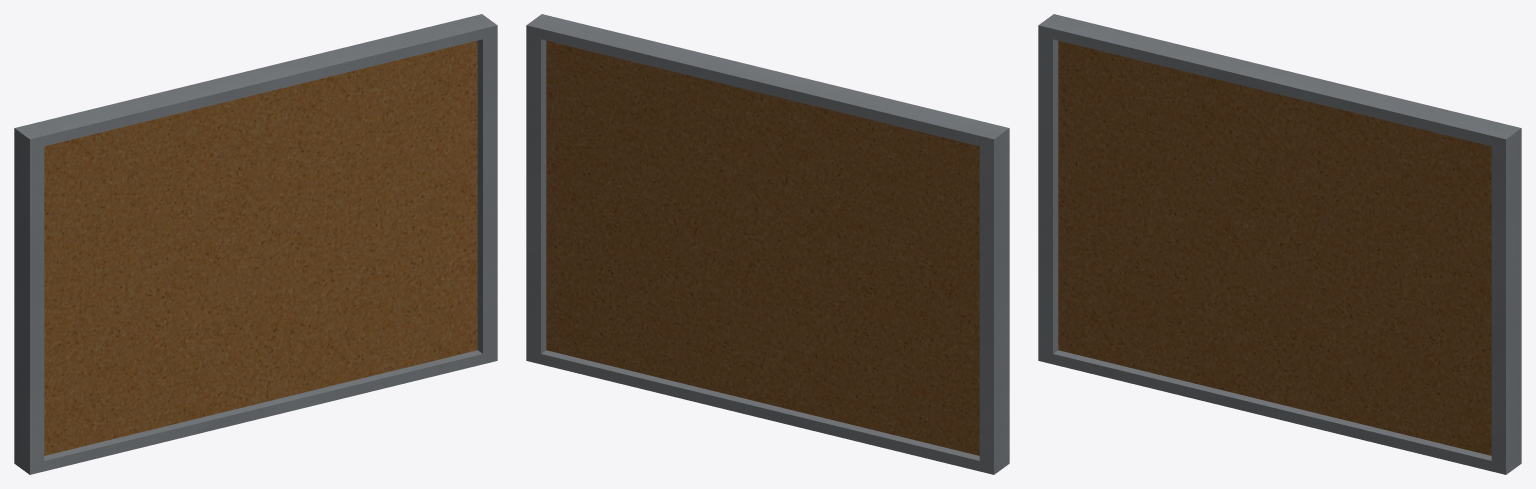
Rendered from BoardBulletin.fbx.
3 views of the same model, side by side, from view 1: azimuth 30°, elevation 25°; view 2: azimuth 150°, elevation 25°; view 3: azimuth 330°, elevation 25° (orthographic).
Visible parts, largest first — view 1: BoardBulletin; view 2: BoardBulletin; view 3: BoardBulletin.
Part boxes in pixels (x1,y1,x2,y2): BoardBulletin: [14, 14, 497, 474]; BoardBulletin: [526, 14, 1009, 474]; BoardBulletin: [1038, 14, 1521, 474].
Bounding box in the file's own units: 1.75 × 1.2 × 0.1.
